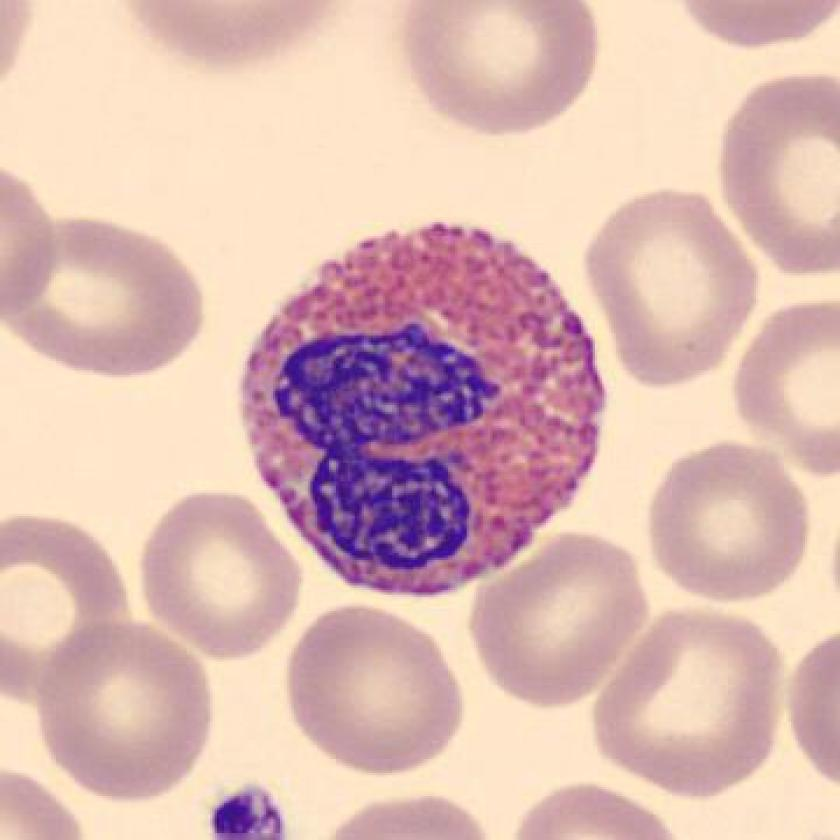eosinophil: (225, 209, 619, 612)
